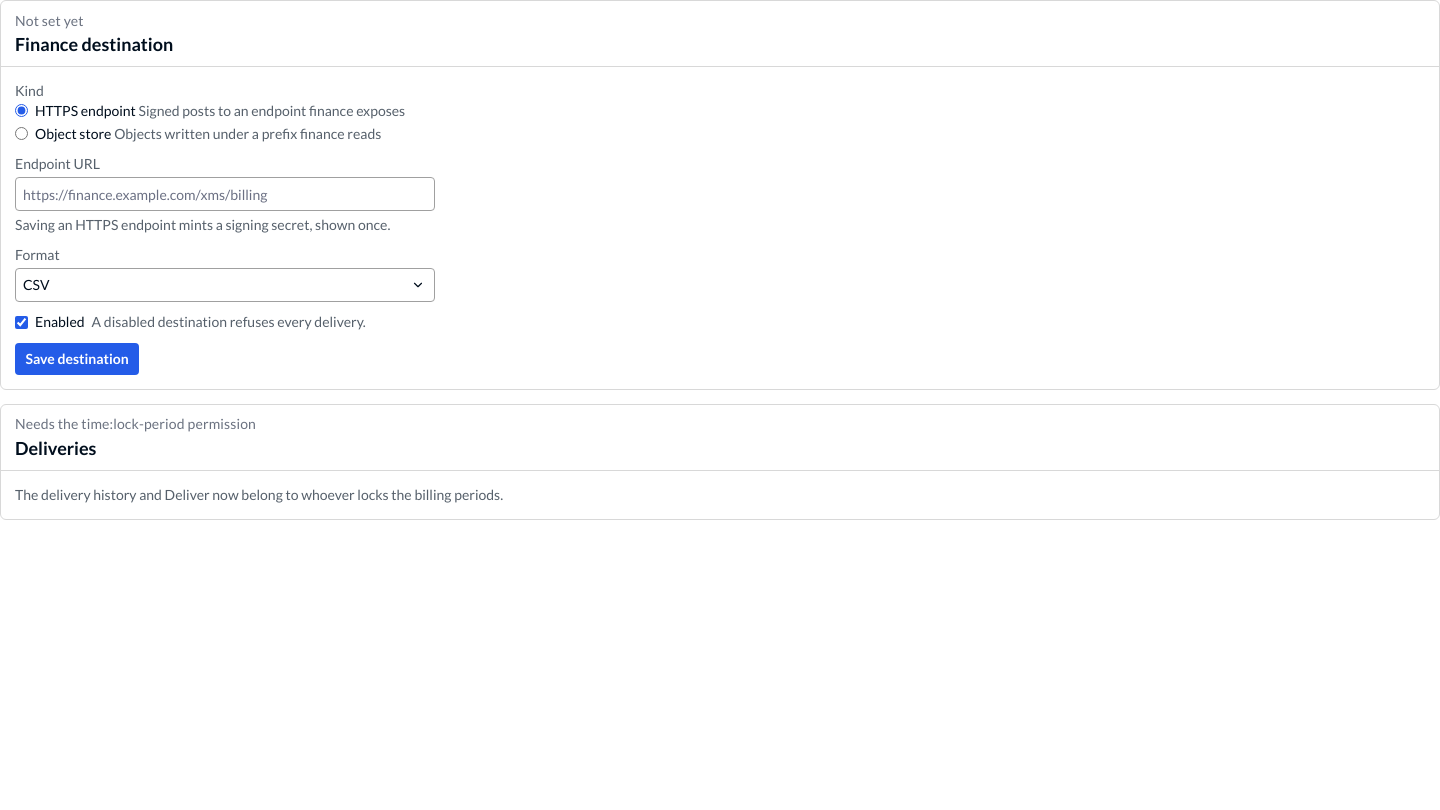
AccountFinanceTab › saves an HTTPS destination with the body the API takes and shows the secret once
The width and height of the screenshot is (1440, 810).
expect the text "Saving an HTTPS endpoint mints a signing secret, shown once." is shown: met, box [15,216,390,233]
Type "https://finance.example.test/xms/billing" into the field labelled "Endpoint URL" at [225, 194], box [15,177,435,211]
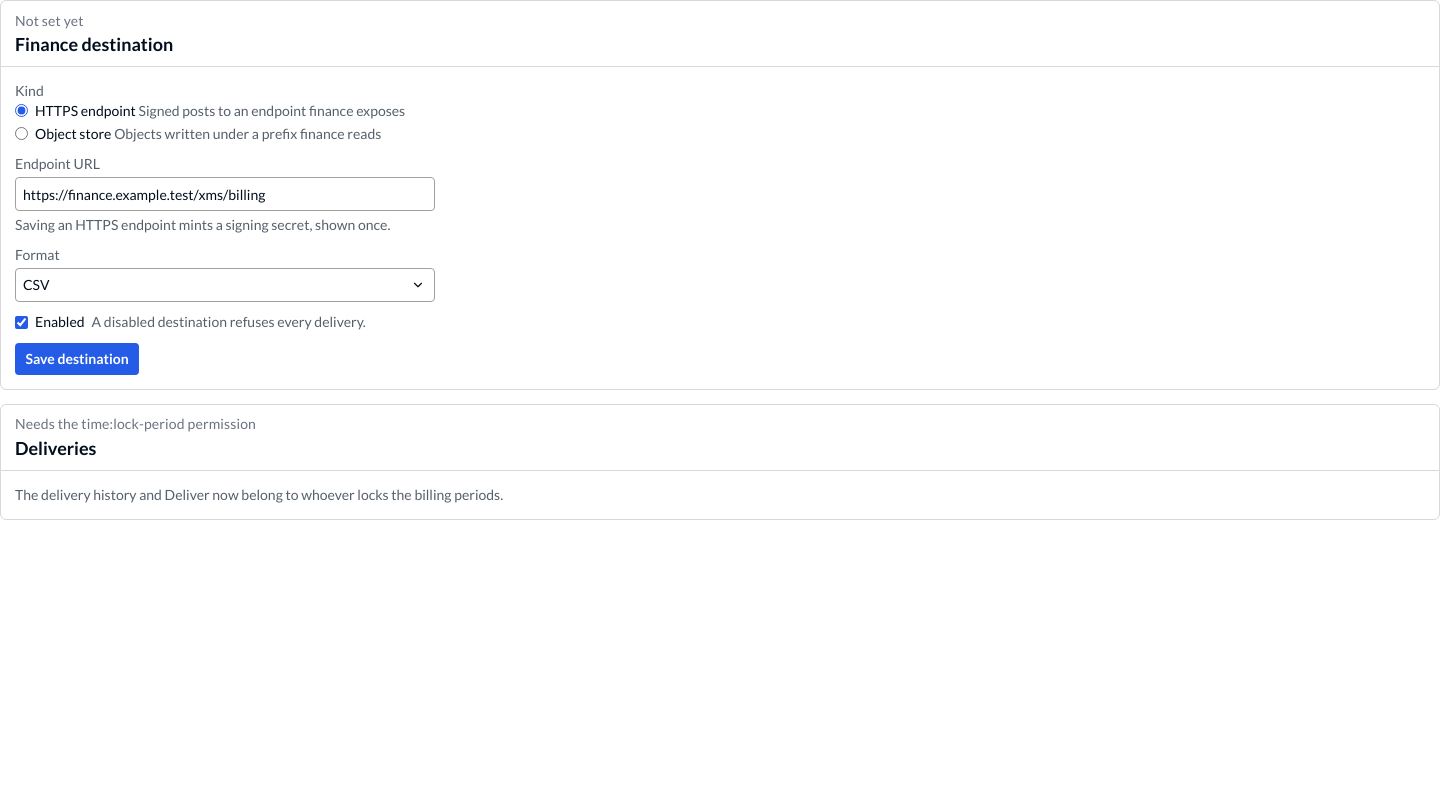
Select "Excel" in the dropdown labelled "Format" at [225, 285], box [15,268,435,302]
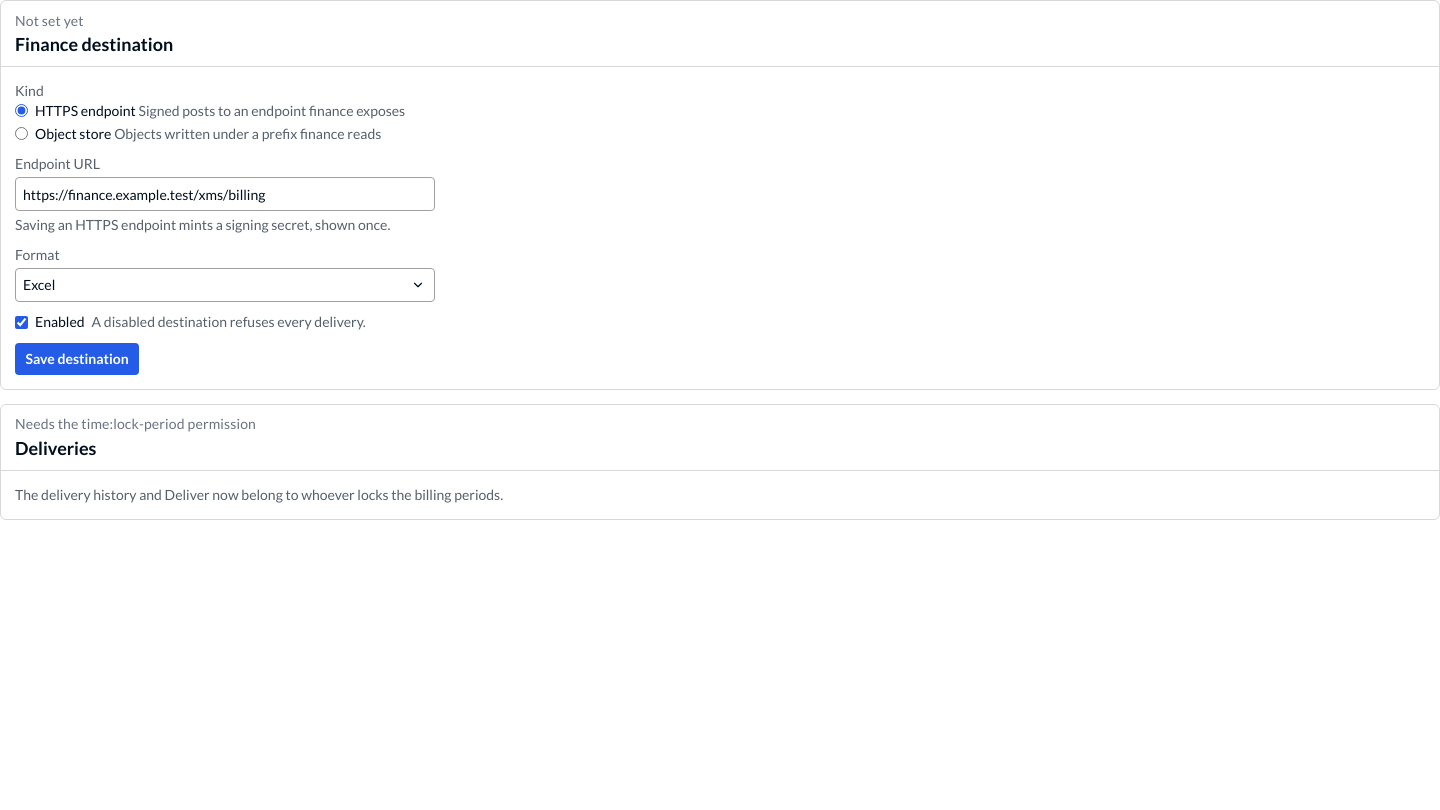
Click the button "Save destination" at [77, 358], box [15,342,139,374]
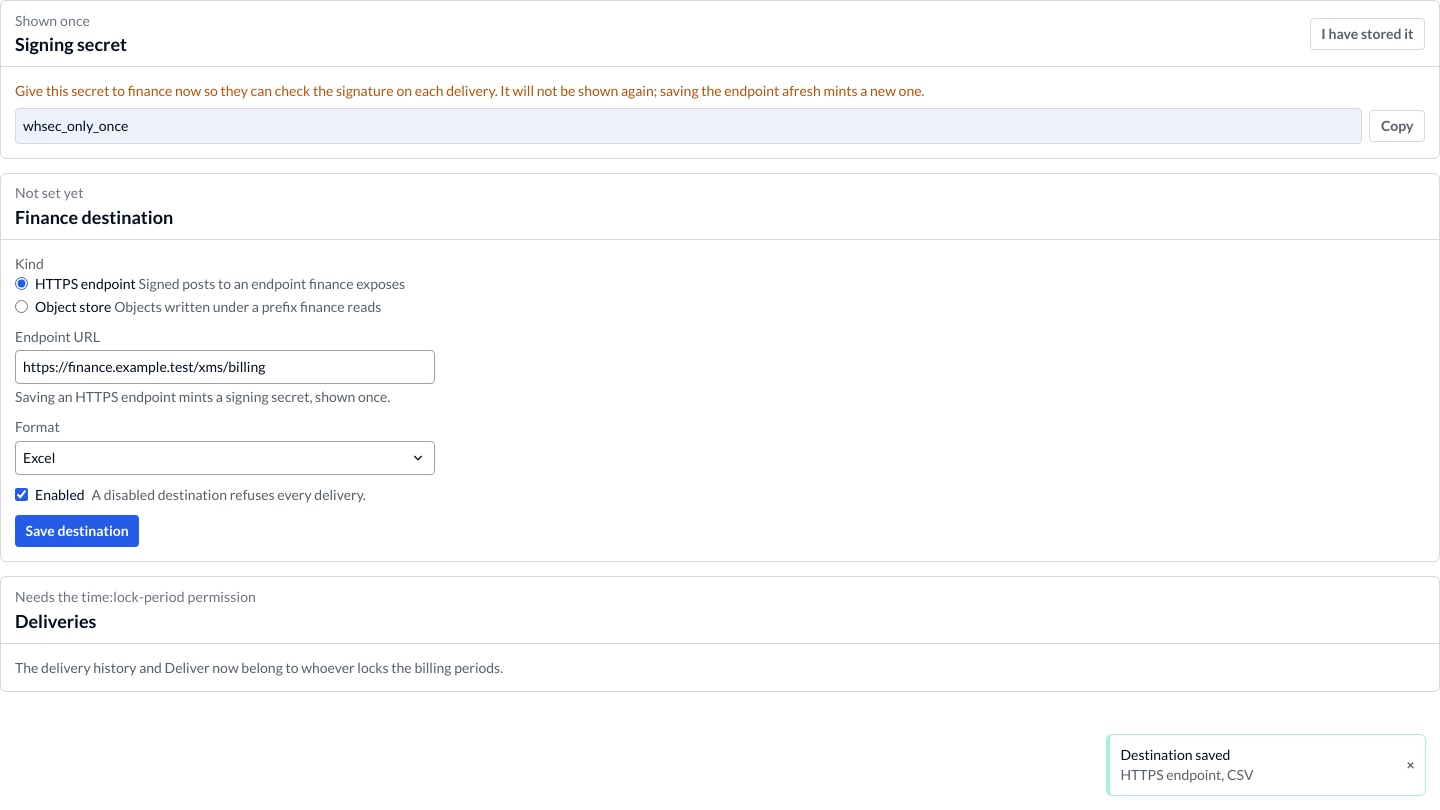
expect the text "whsec_only_once" is shown: met, box [15,108,1362,144]
expect the element with test id "new-finance-secret" shows "It will not be shown again": met, box [15,82,924,99]
Click the button "I have stored it" at [1367, 34], box [1310,18,1425,50]
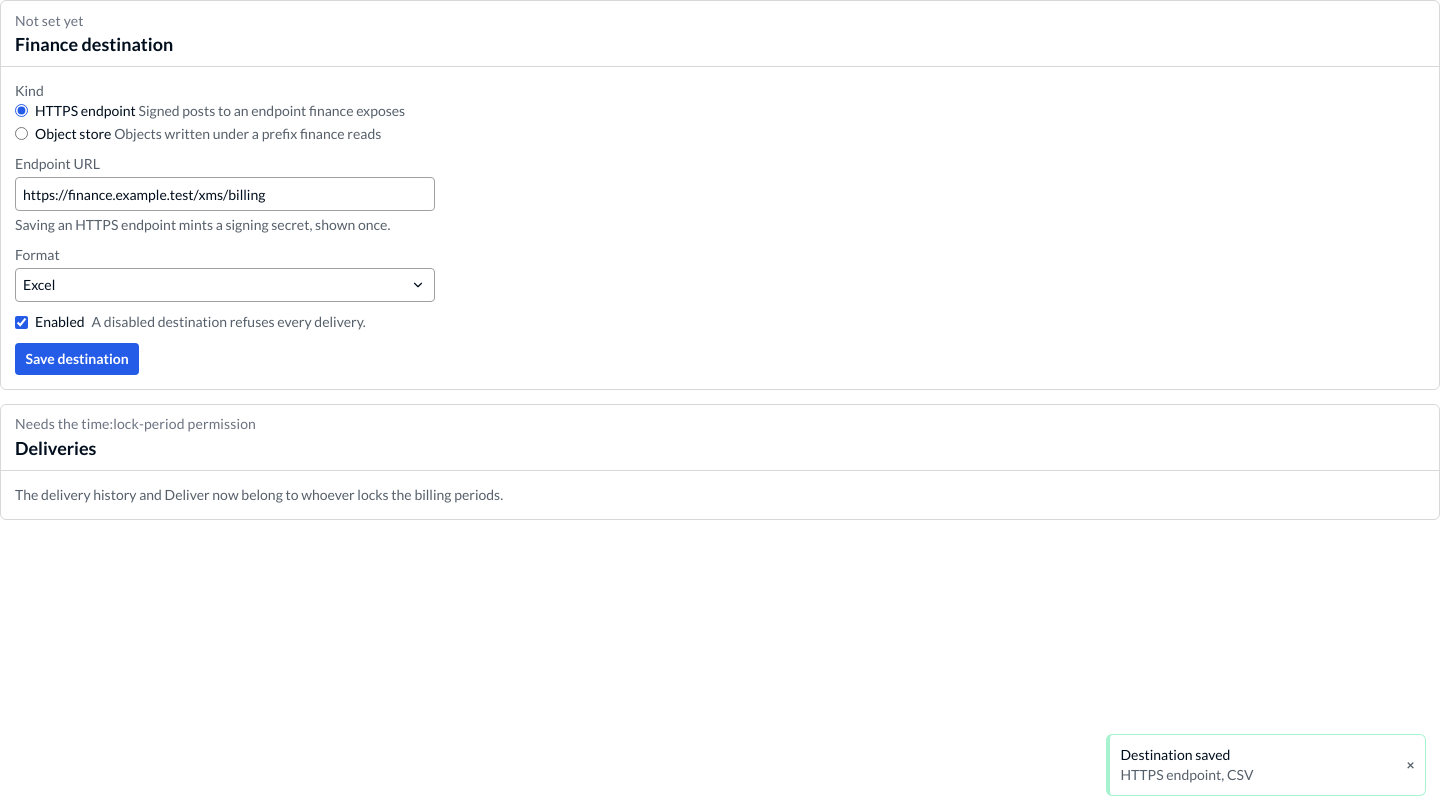
expect the element with test id "new-finance-secret" is gone: met
